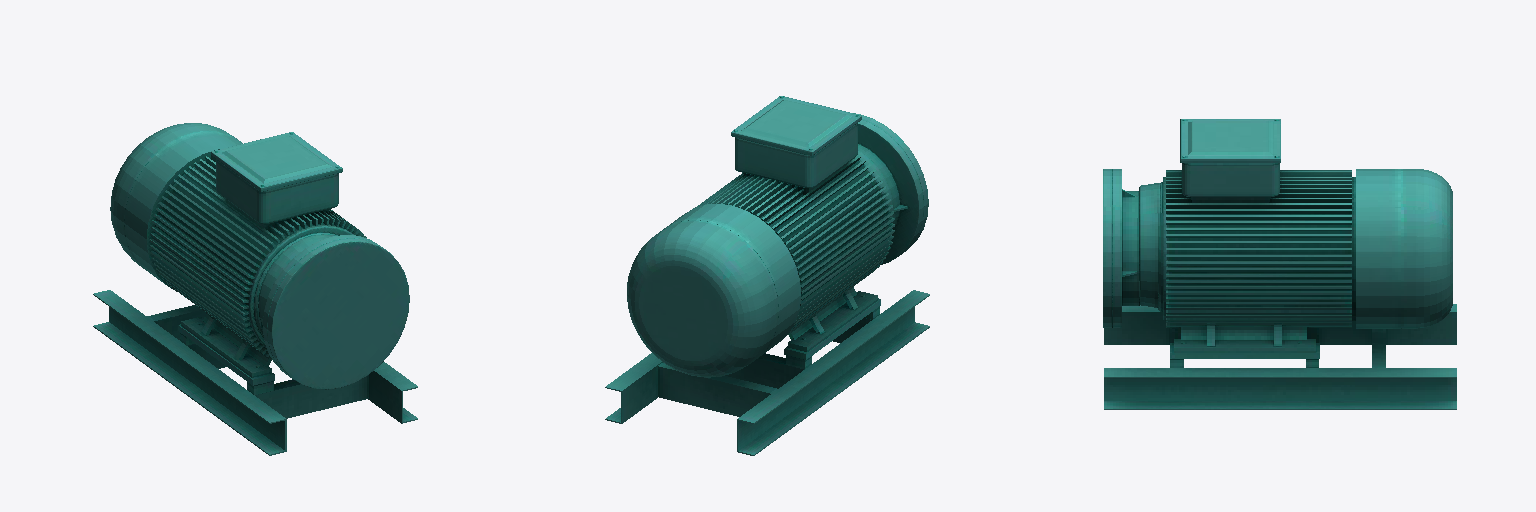
3 views of the same model, side by side, from view 1: azimuth 30°, elevation 25°; view 2: azimuth 150°, elevation 25°; view 3: azimuth 270°, elevation 25° (orthographic).
Parts seen in each view (by area): view 1: Line06; view 2: Line06; view 3: Line06.
Boxes of the visible parts, x1,y1,x2,y2 form: Line06: [93, 123, 417, 455]; Line06: [605, 96, 929, 455]; Line06: [1103, 119, 1456, 409].
Bounding box in the file's own units: 90.83 × 137 × 187.
1 materials, 1 textured.